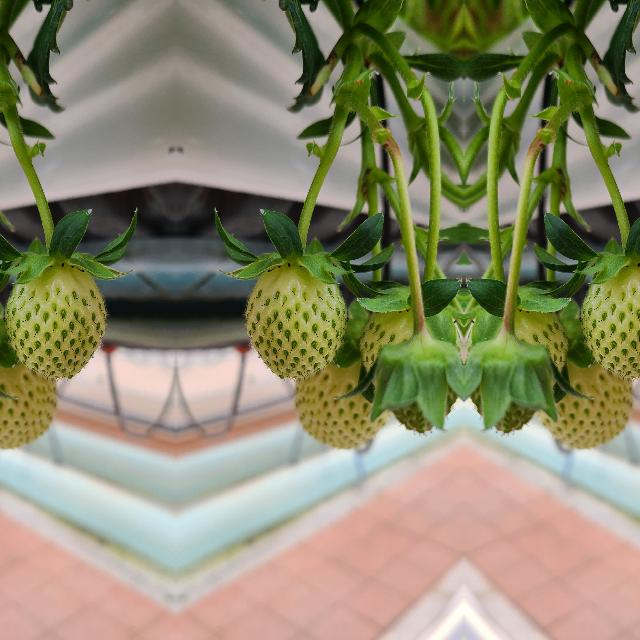Health_25: (244, 260, 346, 378), (4, 260, 106, 378), (295, 351, 387, 447), (539, 351, 631, 447), (580, 260, 640, 377), (0, 351, 55, 447)
